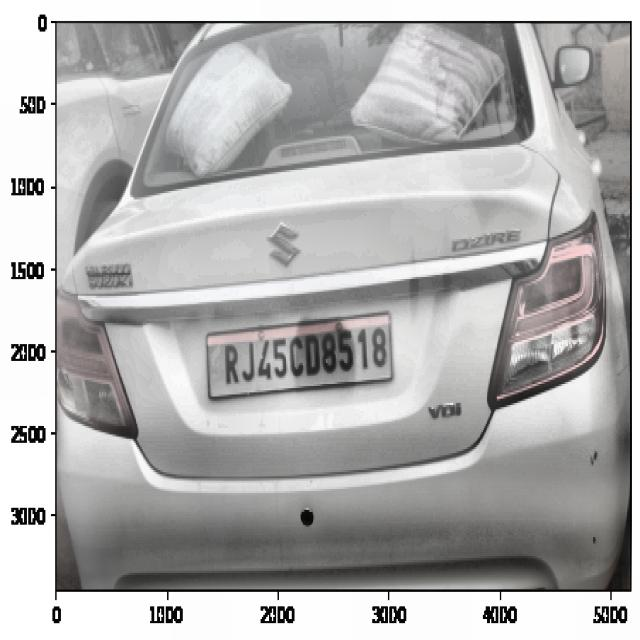license_plate: (216, 322, 392, 392)
